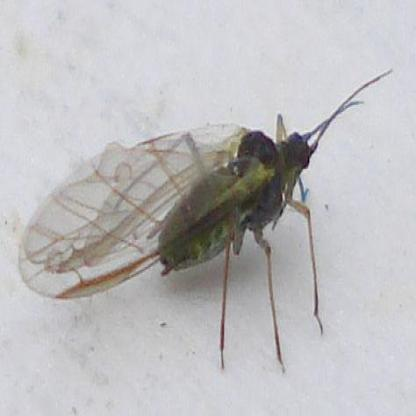aphid: (14, 63, 392, 367)
